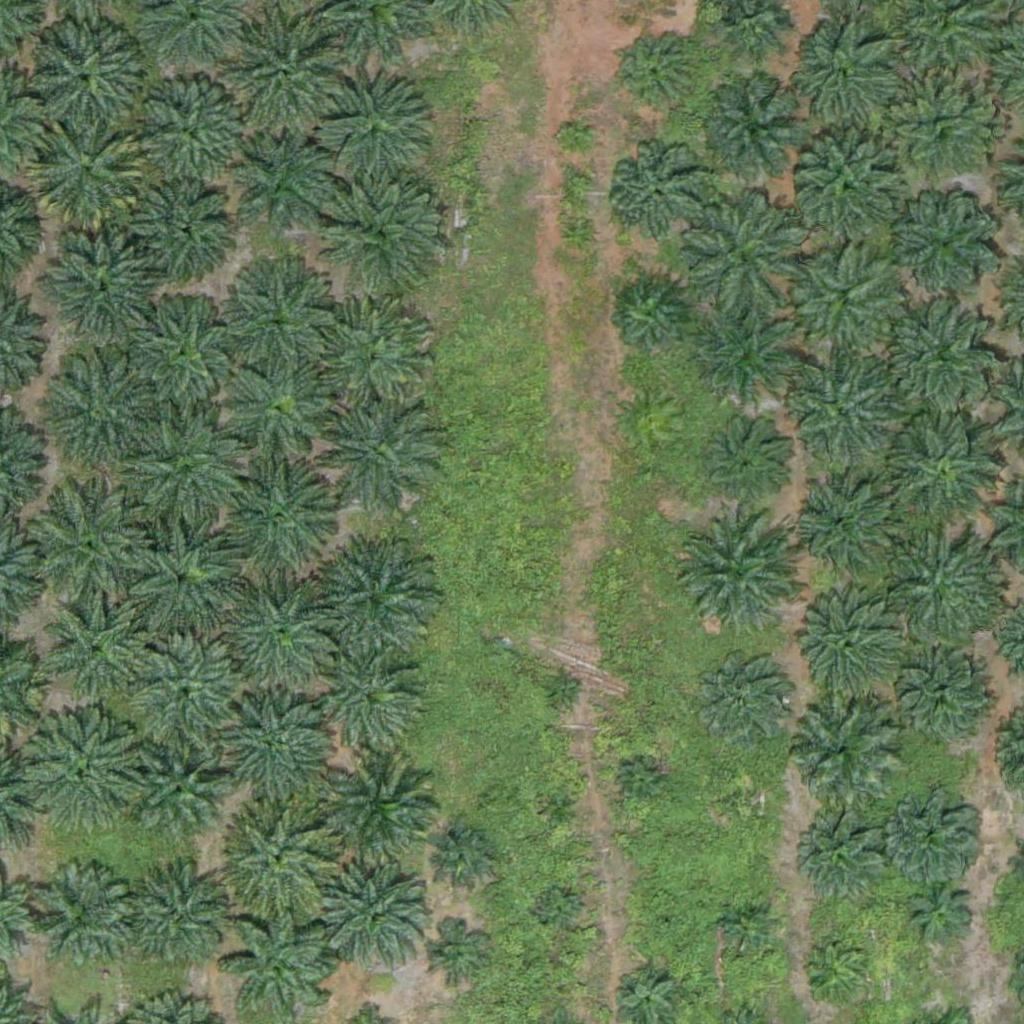Kelapa_Sawit: (317, 68, 442, 194), (316, 164, 441, 290), (218, 16, 343, 142), (20, 20, 145, 146), (678, 190, 803, 316), (217, 256, 342, 382), (124, 292, 249, 418), (311, 294, 436, 420), (25, 484, 150, 610), (32, 352, 157, 478), (37, 224, 162, 350), (121, 415, 246, 541), (115, 518, 240, 644), (123, 640, 248, 766), (210, 691, 335, 817), (218, 577, 343, 703), (213, 456, 338, 582), (315, 394, 440, 520), (311, 539, 436, 665), (322, 759, 447, 885), (671, 510, 796, 636), (27, 117, 152, 242), (23, 711, 148, 836), (883, 525, 1008, 650), (881, 72, 994, 185), (793, 133, 906, 246), (783, 17, 896, 130), (224, 134, 337, 247), (136, 74, 249, 187), (891, 183, 1004, 296), (782, 693, 895, 806), (886, 298, 999, 411), (886, 411, 999, 524), (224, 906, 337, 1019), (791, 249, 903, 362), (692, 300, 804, 413), (787, 356, 899, 469), (789, 589, 901, 702), (321, 866, 433, 979), (225, 801, 337, 914), (703, 82, 803, 183), (131, 175, 231, 276), (48, 602, 148, 703), (322, 654, 422, 755), (692, 649, 792, 750), (795, 477, 895, 578), (893, 649, 993, 750), (888, 784, 988, 885), (129, 868, 229, 969), (28, 867, 128, 968), (607, 145, 707, 245), (229, 364, 329, 464), (614, 31, 702, 119), (133, 750, 220, 839), (704, 414, 791, 502), (801, 817, 888, 905), (613, 279, 688, 355), (423, 922, 486, 985), (433, 824, 496, 887), (716, 897, 779, 960), (909, 879, 971, 942), (807, 942, 869, 1005), (538, 888, 576, 926), (542, 790, 580, 828), (543, 671, 581, 709), (557, 122, 594, 160), (728, 784, 766, 821), (624, 764, 661, 802), (655, 914, 680, 939)
